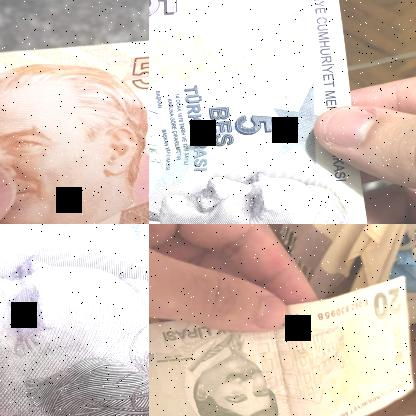5 TL: (0, 32, 148, 223)
